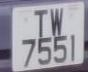1: (67, 33, 78, 65)
5: (50, 34, 70, 66), (35, 36, 55, 67)
7: (20, 37, 38, 69)
T: (31, 5, 51, 41)
W: (48, 5, 67, 40)
